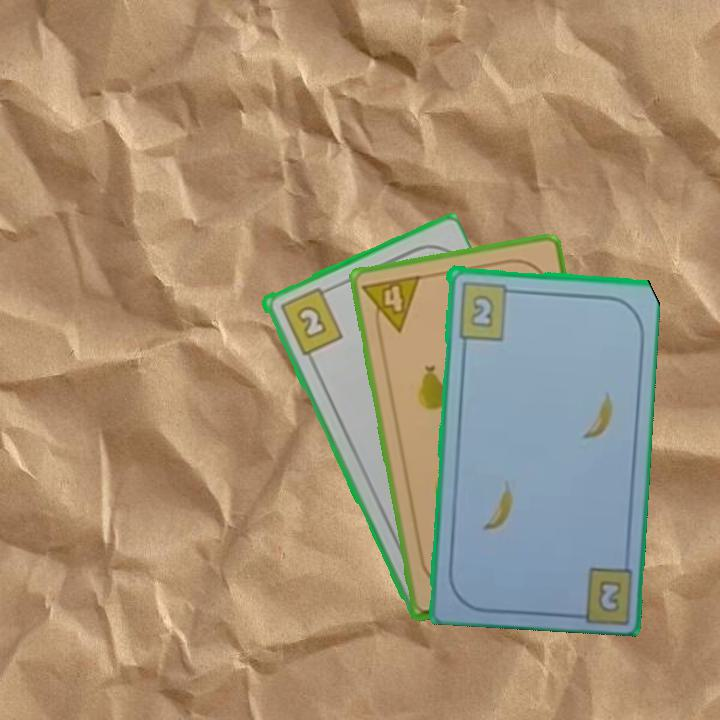2b: (276, 283, 345, 358), (455, 278, 519, 342), (594, 576, 624, 616)
4p: (359, 271, 424, 338)
